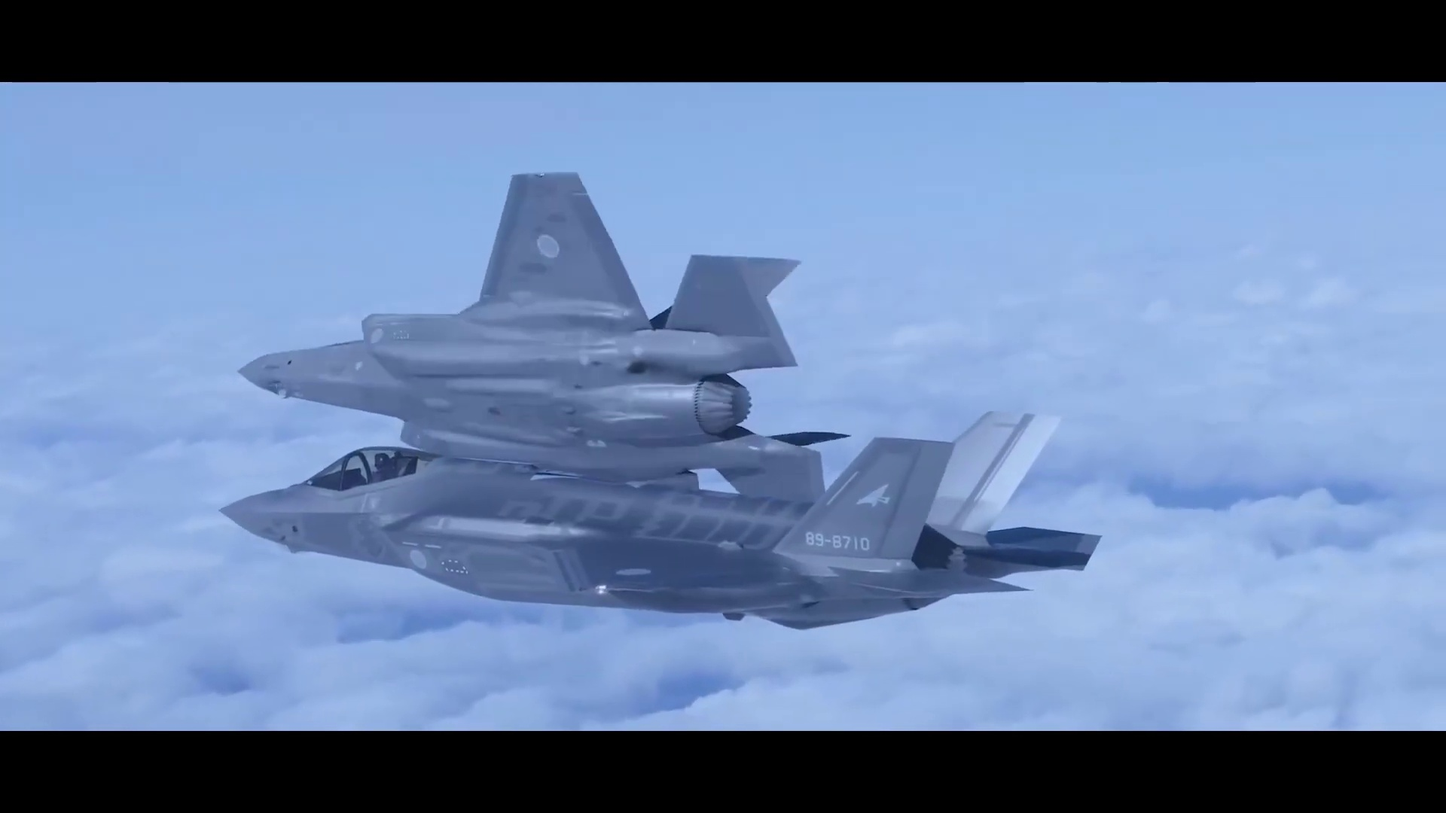F35: (213, 405, 1111, 634), (230, 167, 804, 483)
